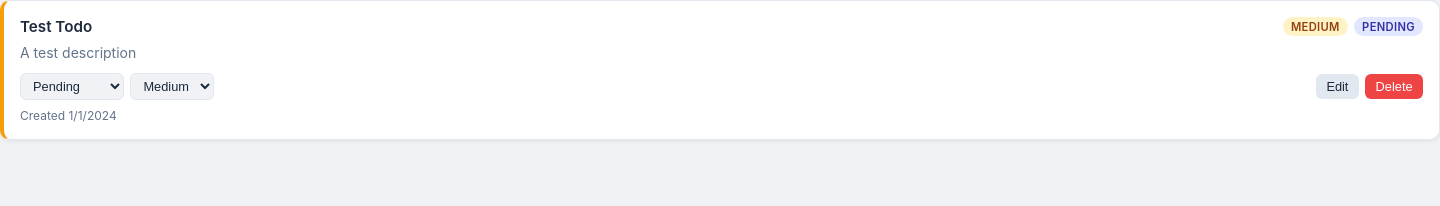
Test: TodoItem — edit mode › enters edit mode when Edit button is clicked
Step 1. Click the button "Edit" → {"x": 1337, "y": 86}, box [1316,74,1359,99]
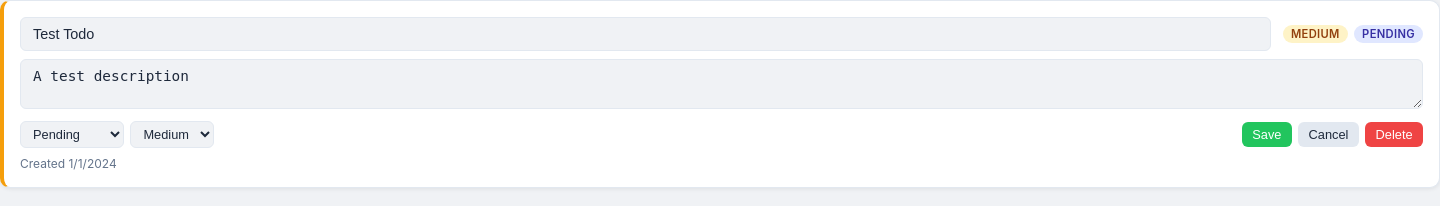
Expected: the field showing "Test Todo" is shown, [20,17,1271,51]
